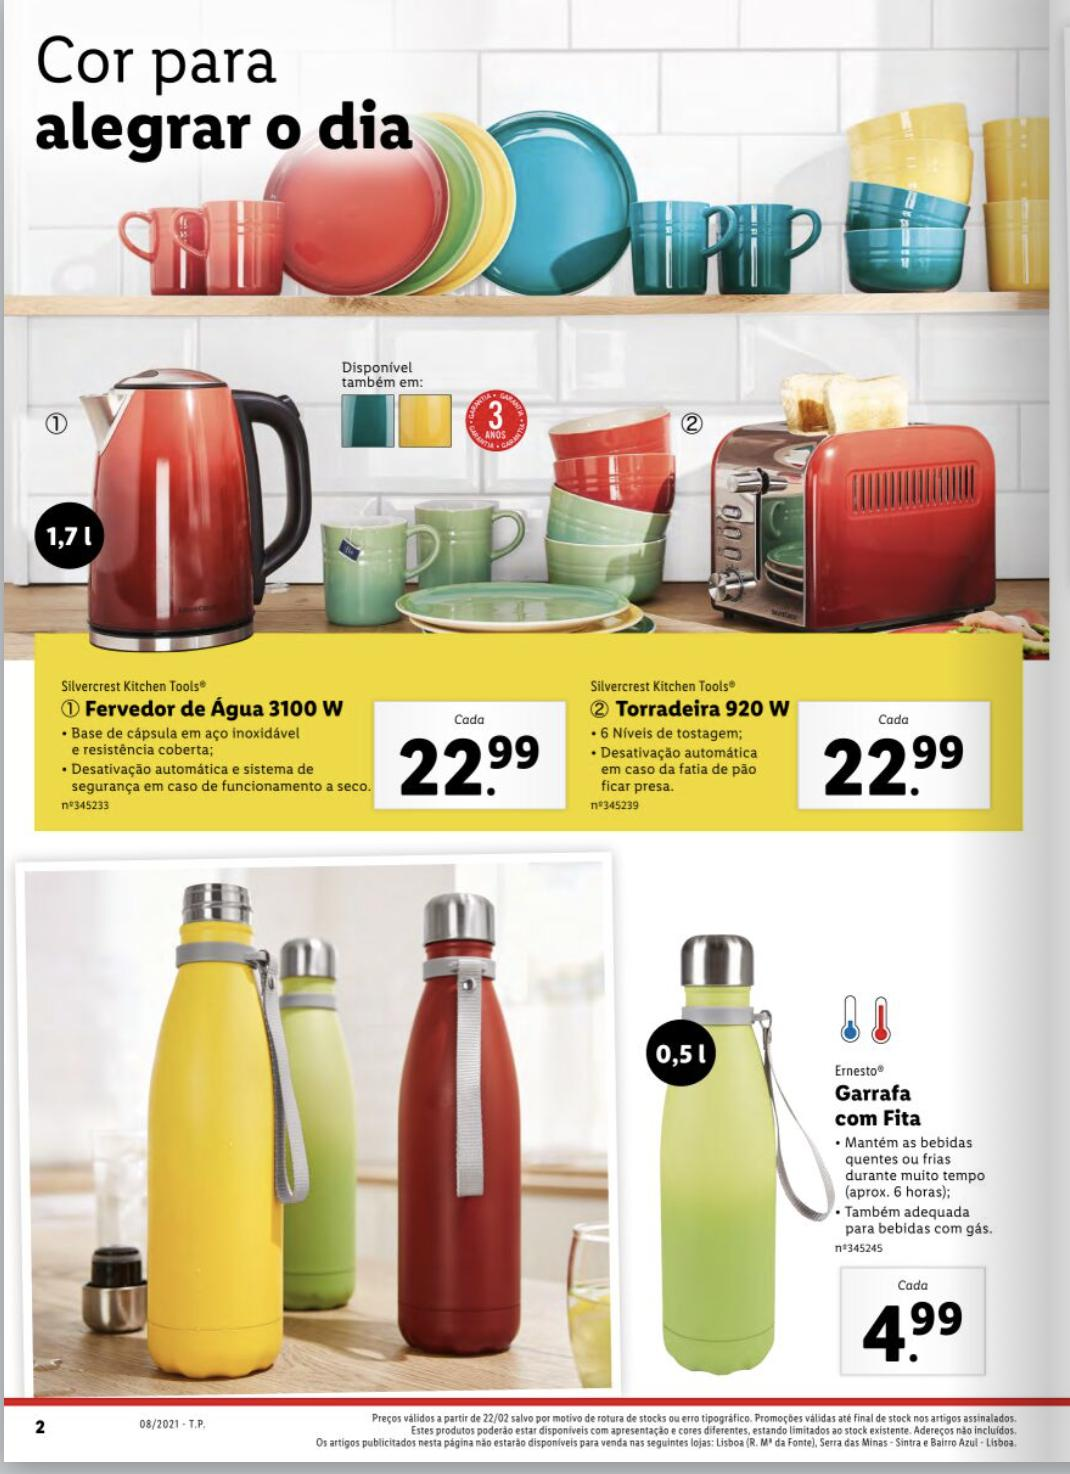name: (89, 698, 351, 723), (829, 1081, 925, 1134), (615, 696, 798, 721)
price: (815, 727, 967, 801), (396, 729, 547, 801), (859, 1295, 973, 1369)
product: (18, 351, 566, 816), (573, 391, 1009, 825), (640, 914, 998, 1385)
